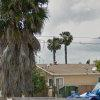Palm tree: (41, 27, 80, 61)
